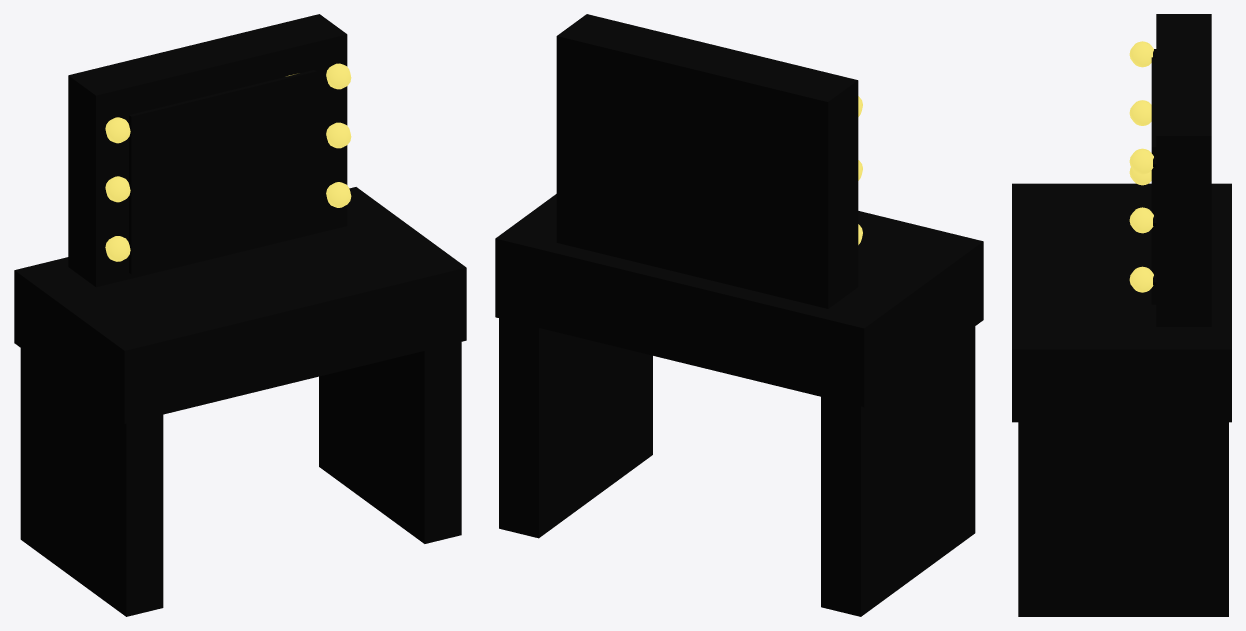
The model's file is Toletta_2_Model.fbx.
3 renders of one model, left to right at view 1: azimuth 30°, elevation 25°; view 2: azimuth 150°, elevation 25°; view 3: azimuth 270°, elevation 25°, orthographic. The views are drawn at different scales.
Visible parts, largest first — view 1: polySurface9, pCube38, pCube40, pCube39; view 2: pCube38, polySurface9, pCube40, pCube39; view 3: polySurface9, pCube39, pCube38, pSphere9, pSphere2, pSphere5, pSphere4, pSphere8.
Part boxes in pixels (<box>): polySurface9: <box>14,187,466,423</box>; pCube38: <box>68,14,347,287</box>; pCube40: <box>20,348,163,616</box>; pCube39: <box>319,342,461,543</box>; pCube38: <box>556,14,858,308</box>; polySurface9: <box>495,194,983,407</box>; pCube40: <box>821,326,975,616</box>; pCube39: <box>499,318,652,538</box>; polySurface9: <box>1012,183,1231,422</box>; pCube39: <box>1018,422,1228,616</box>; pCube38: <box>1151,14,1211,326</box>; pSphere9: <box>1129,148,1153,174</box>; pSphere2: <box>1129,266,1153,292</box>; pSphere5: <box>1129,207,1153,233</box>; pSphere4: <box>1129,41,1153,67</box>; pSphere8: <box>1129,100,1151,125</box>.
Size of the model in its own units: 0.7937 by 1.02 by 0.444.
